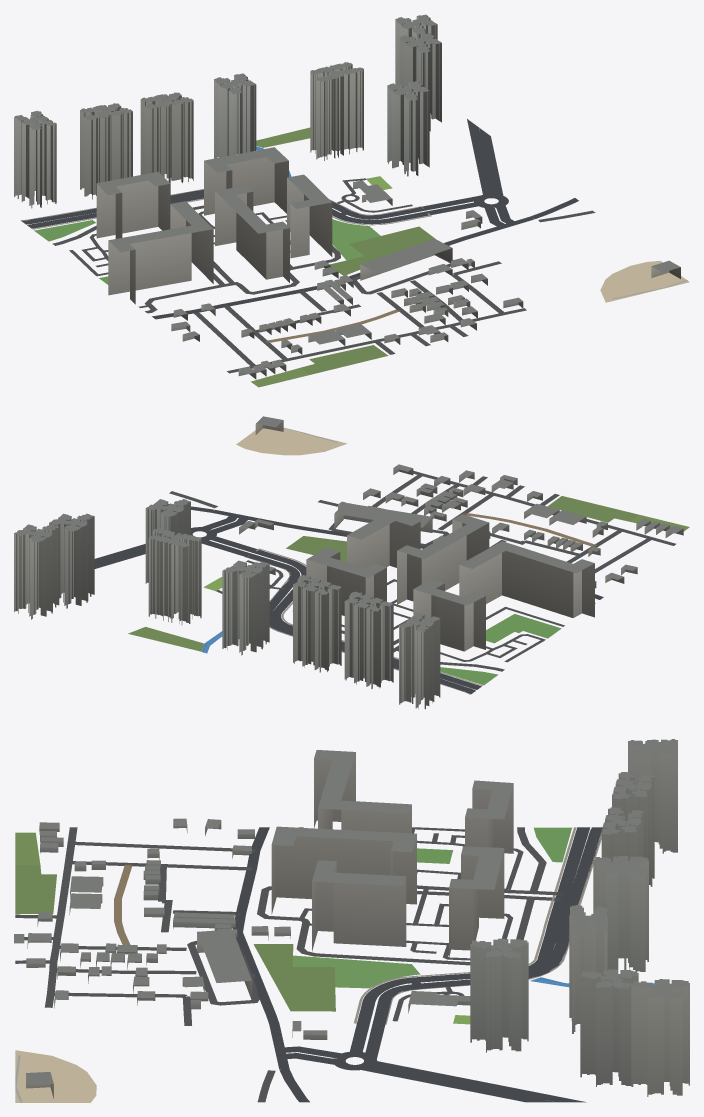
The picture shows the model from 3 angles, top to bottom: view 1: azimuth 30°, elevation 25°; view 2: azimuth 150°, elevation 25°; view 3: azimuth 270°, elevation 25°; orthographic projection. The views are drawn at different scales.
Parts seen in each view (by area): view 1: building, ground; view 2: building, ground; view 3: building, ground.
Part boxes in pixels (box(x1,y1,x2,y2)): building: box(14, 14, 680, 379); ground: box(20, 119, 689, 387); building: box(14, 416, 683, 709); ground: box(94, 427, 689, 694); building: box(14, 739, 689, 1098); ground: box(15, 827, 602, 1102).
Bounding box in the file's own units: 515 × 87 × 519.
